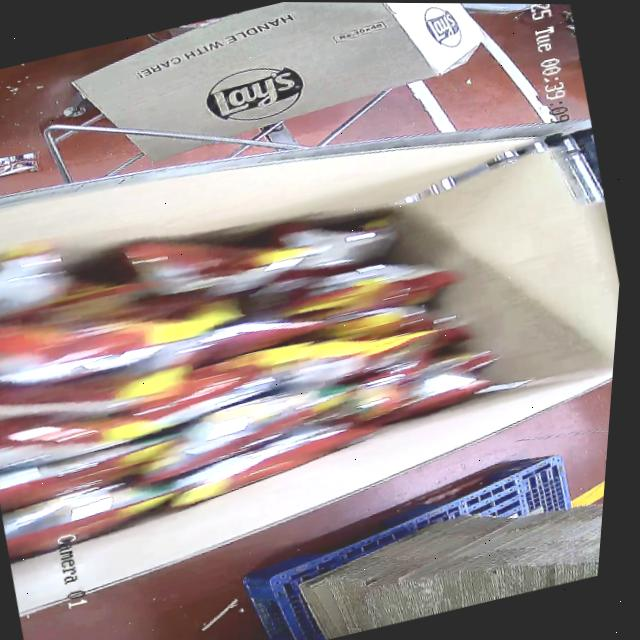MASALA: (0, 146, 548, 564)
